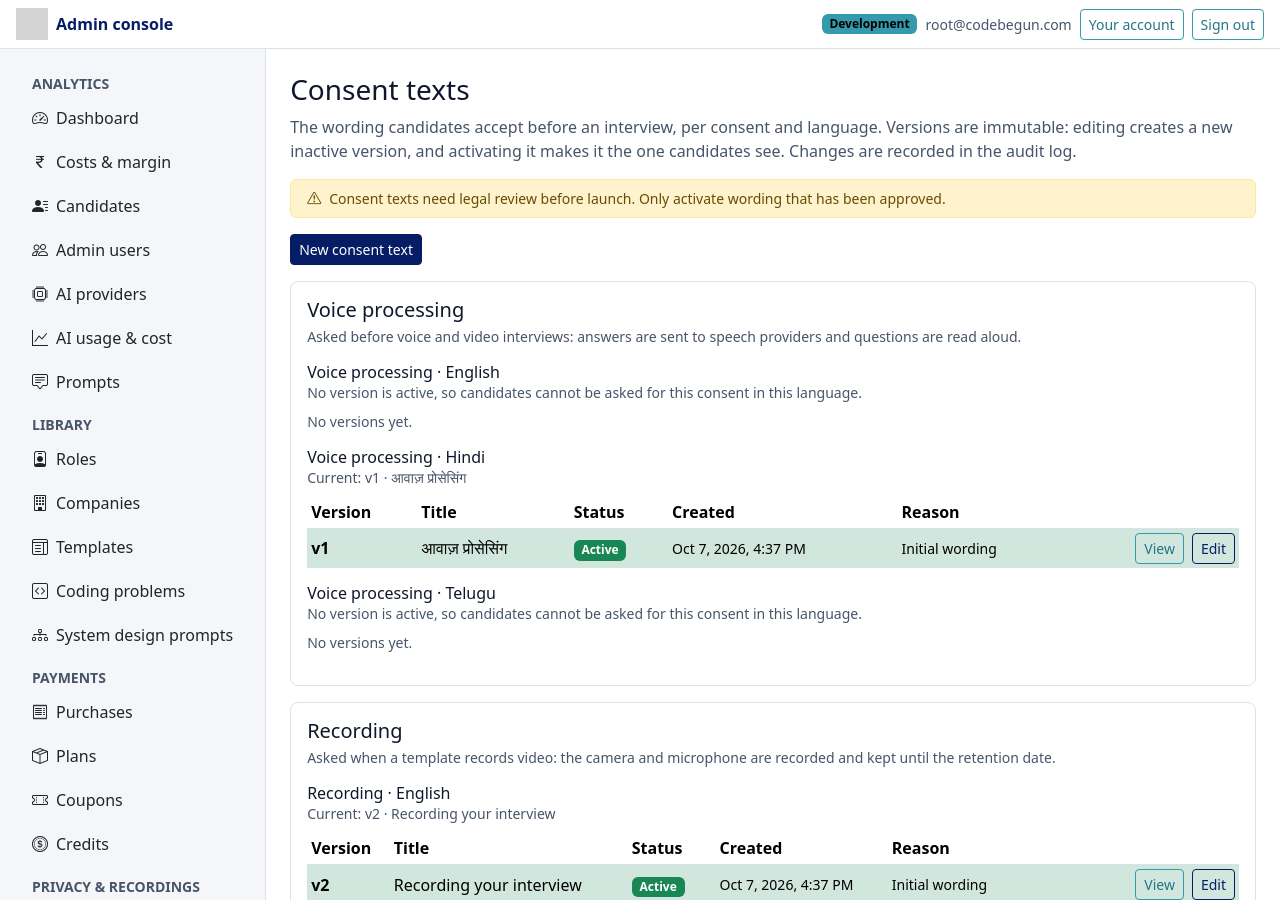
Test: consent texts › creates a new version prefilled from an existing one
Click the button with aria-label "New version from Recording English v2" at (1213, 885), box [1192,869,1235,899]
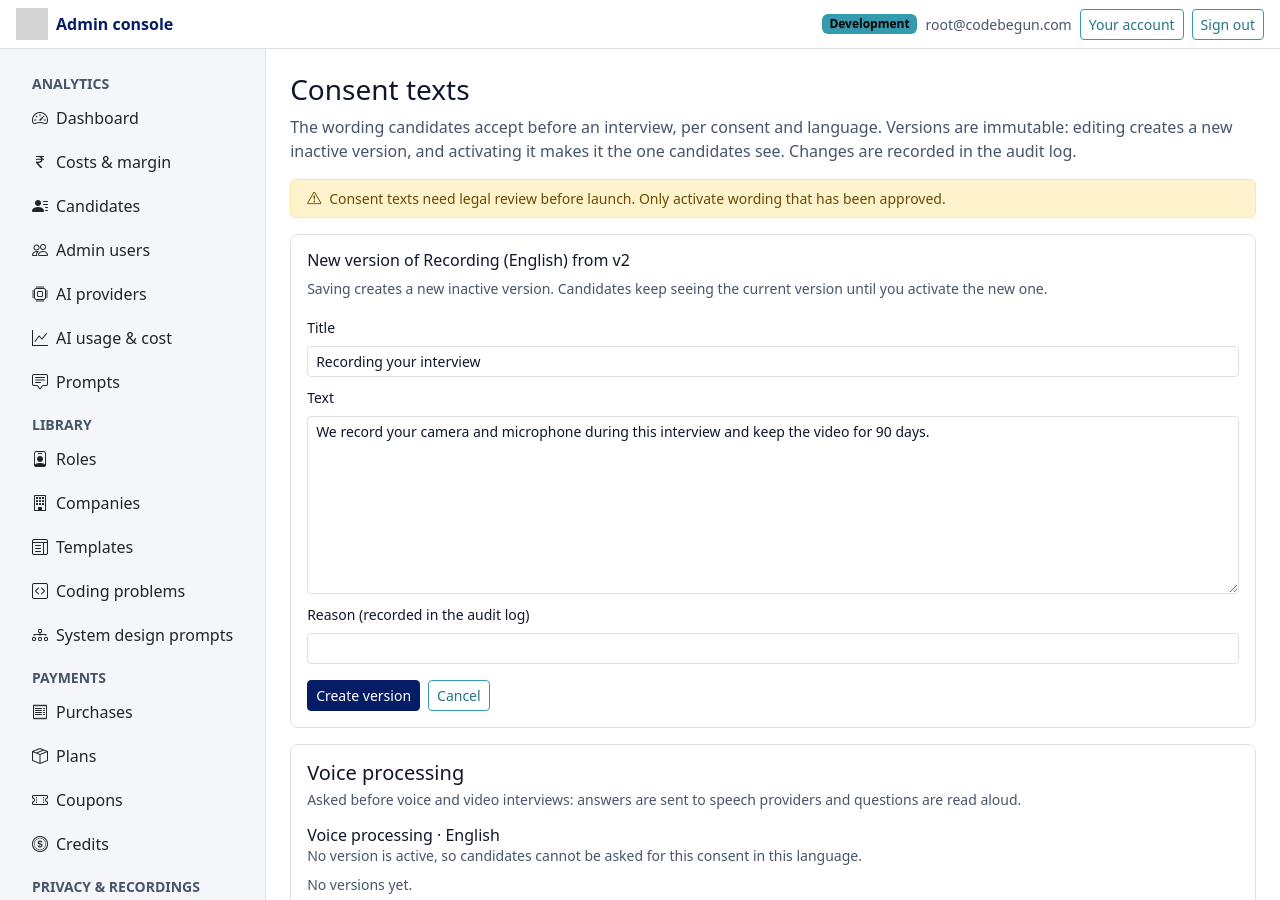
Expected: the field labelled "Title" holds "Recording your interview"
Expected: the text box labelled "Text" holds "We record your camera and microphone during this interview and keep the video for 90 days.", [307,416,1239,594]
Replace the text in the field labelled "Title" with "Recording your interview (v3)" at (773, 361), box [307,346,1239,377]
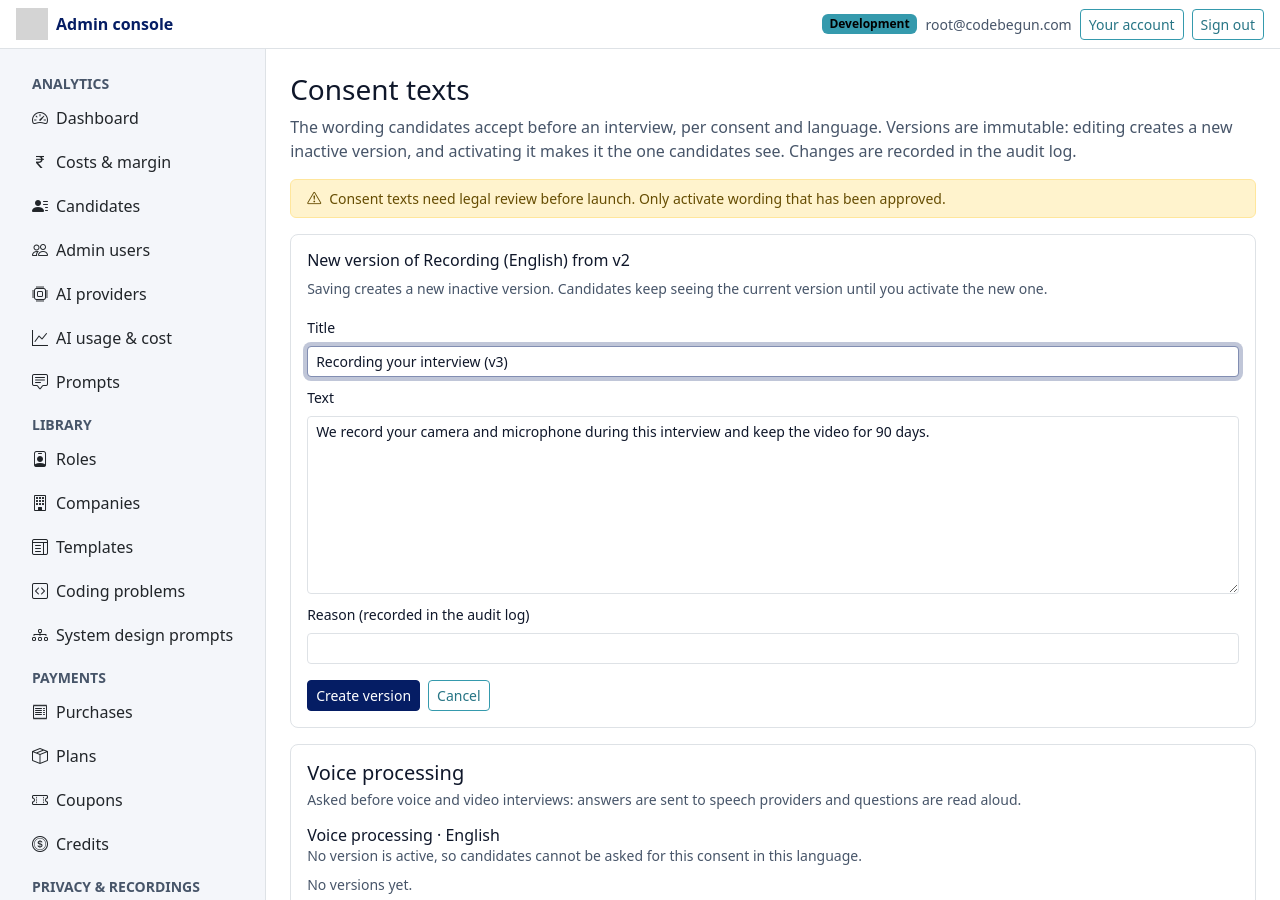
Click the button "Create version" at (364, 695), box [307,680,420,711]
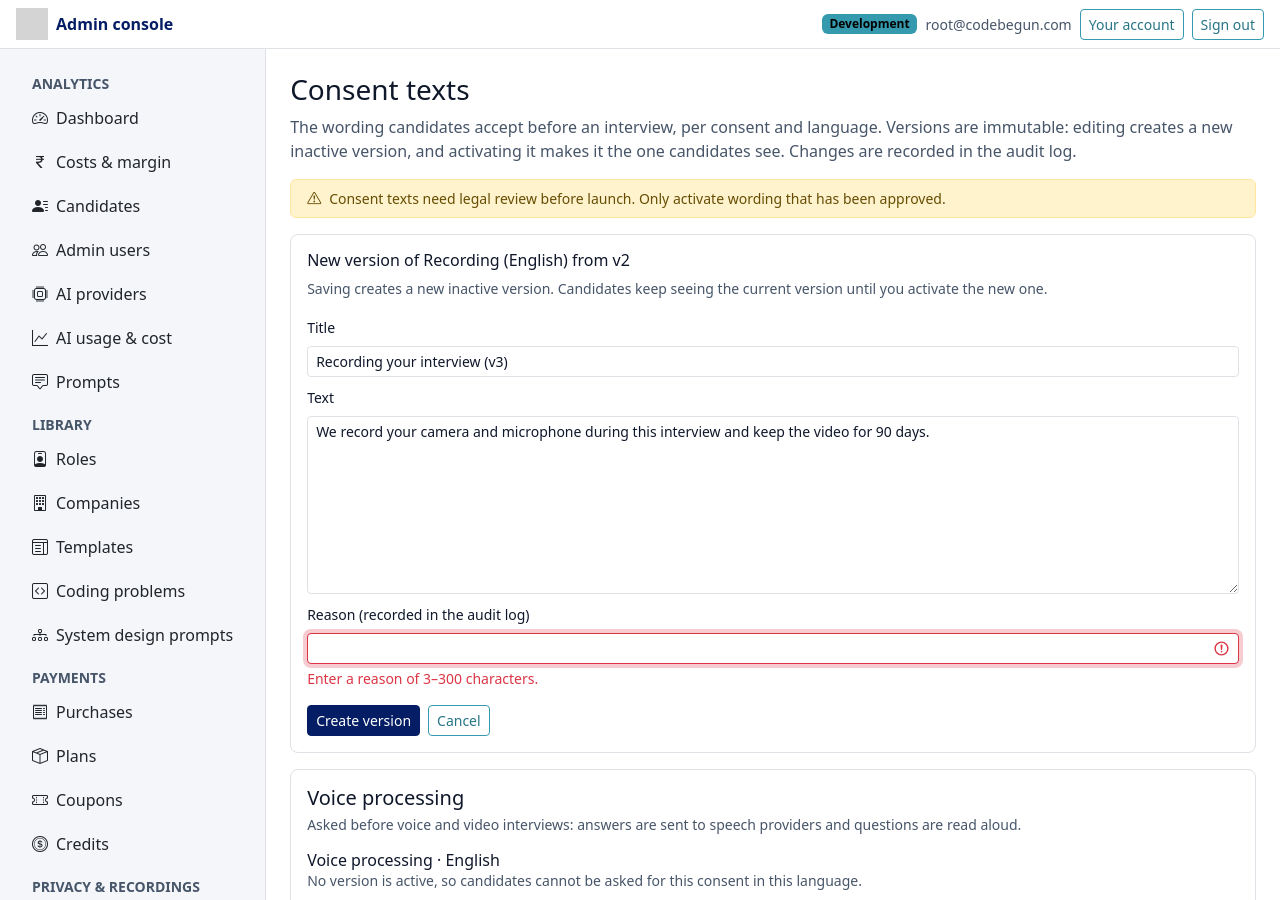
Expected: the text "Enter a reason of 3–300 characters." is shown, [307,669,538,688]
Type "Legal review feedback" into the field labelled "Reason (recorded in the audit log)" at (773, 648), box [307,633,1239,664]
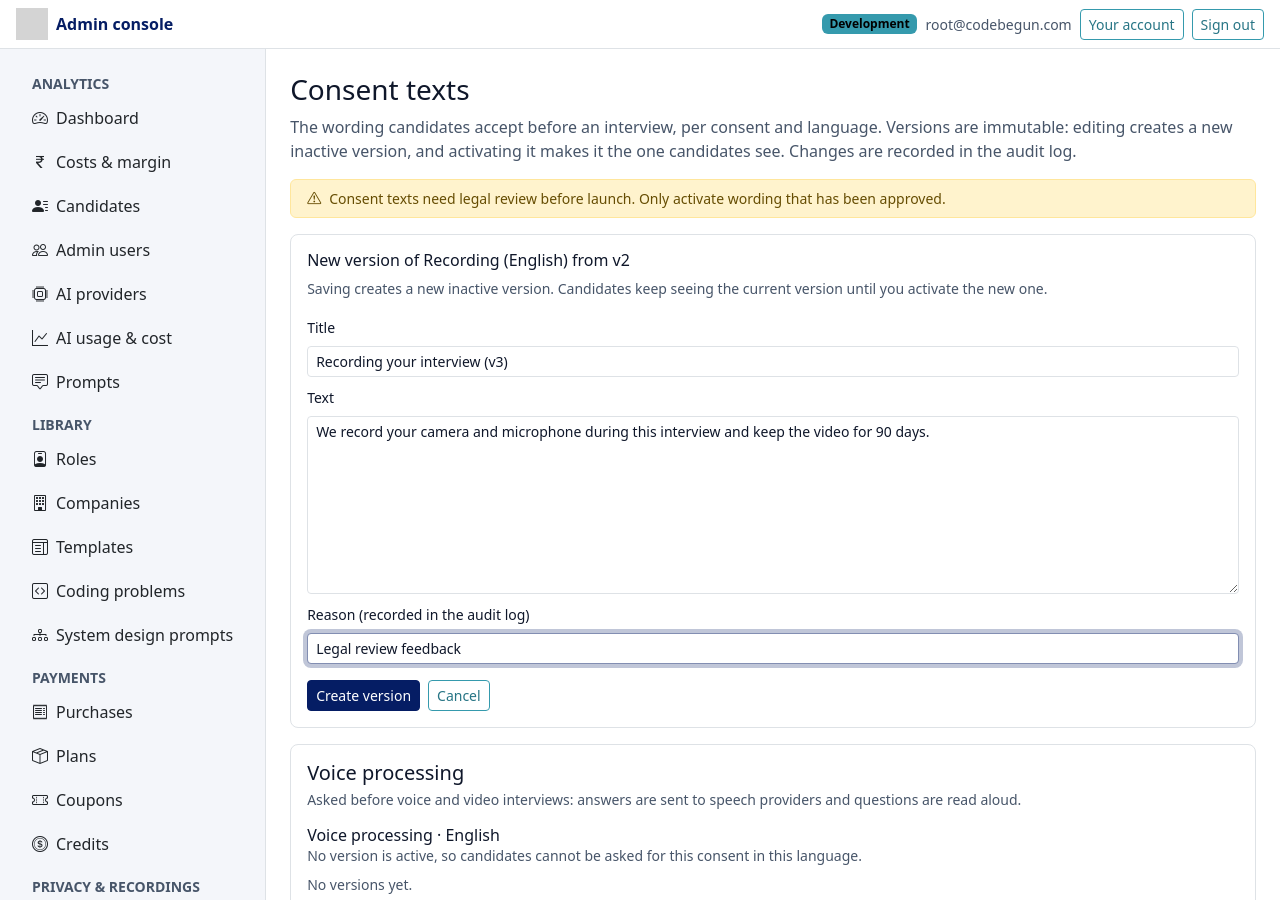
Click the button "Create version" at (364, 695), box [307,680,420,711]
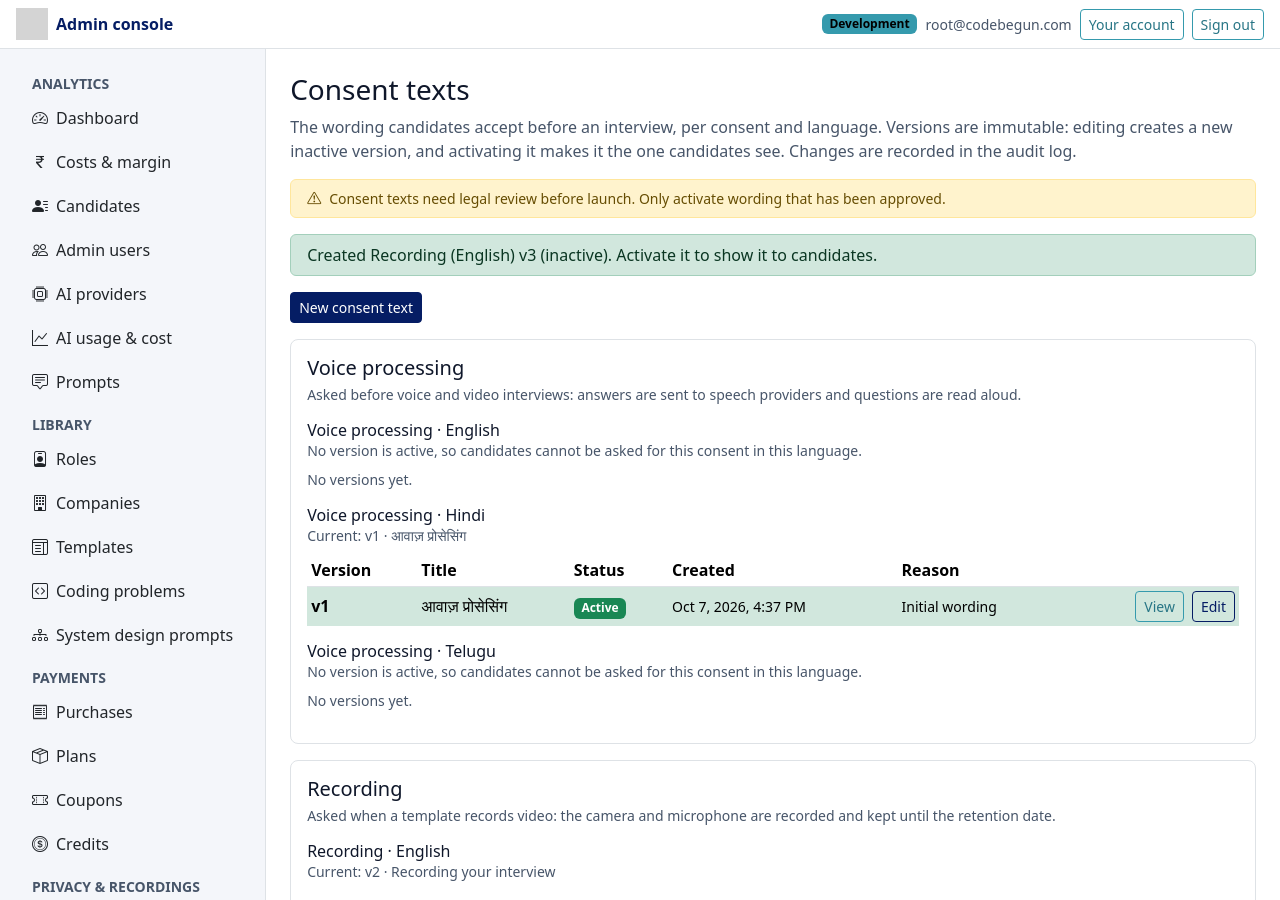
Expected: the text "Created Recording (English) v3 (inactive). Activate it to show it to candidates." is shown, [290,234,1256,276]
